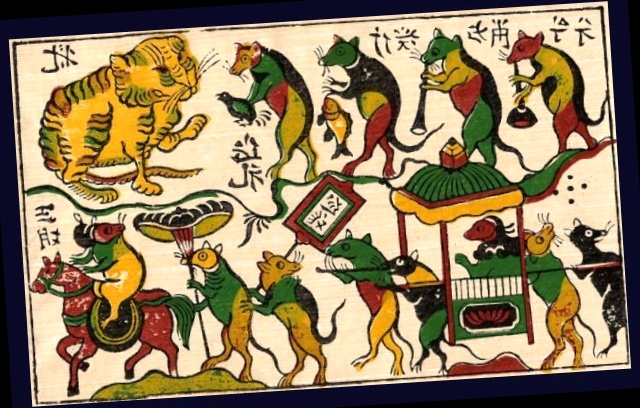chuot_chu_re: (30, 214, 200, 396)
chuot_co_dau: (455, 215, 519, 276)
chuot_khenh_kieu: (390, 138, 536, 343), (320, 230, 447, 374), (565, 219, 626, 356), (527, 266, 582, 368), (525, 221, 562, 268)
chuot_mang_le_vat: (216, 35, 425, 180), (319, 34, 425, 176), (320, 36, 423, 151), (231, 42, 316, 180)
chuot_nguoi_hau: (134, 176, 364, 386), (250, 251, 344, 386)
chuot_nhac_cong: (411, 28, 532, 171), (506, 31, 607, 152)
ho_uy_nghi: (38, 35, 208, 203)
